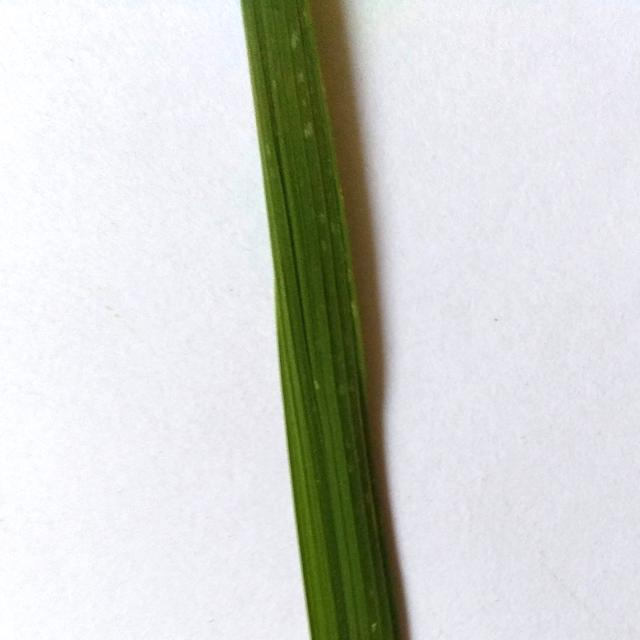Rice_Healthy: (241, 0, 401, 640)
